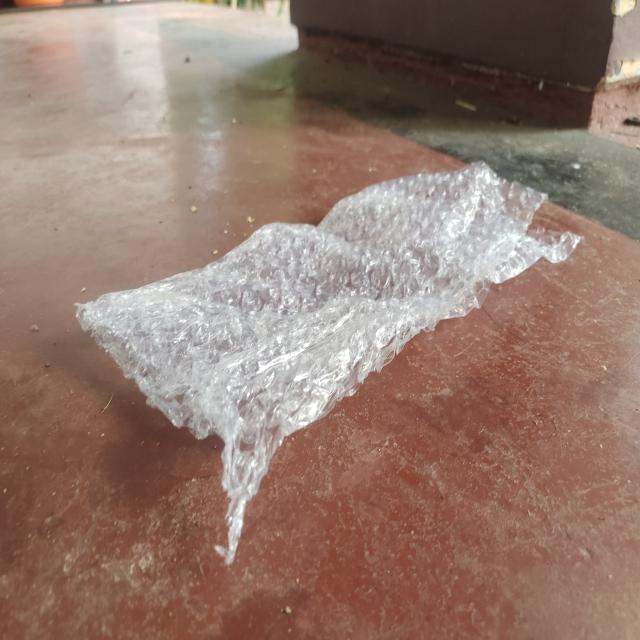plastic: (72, 166, 582, 509)
